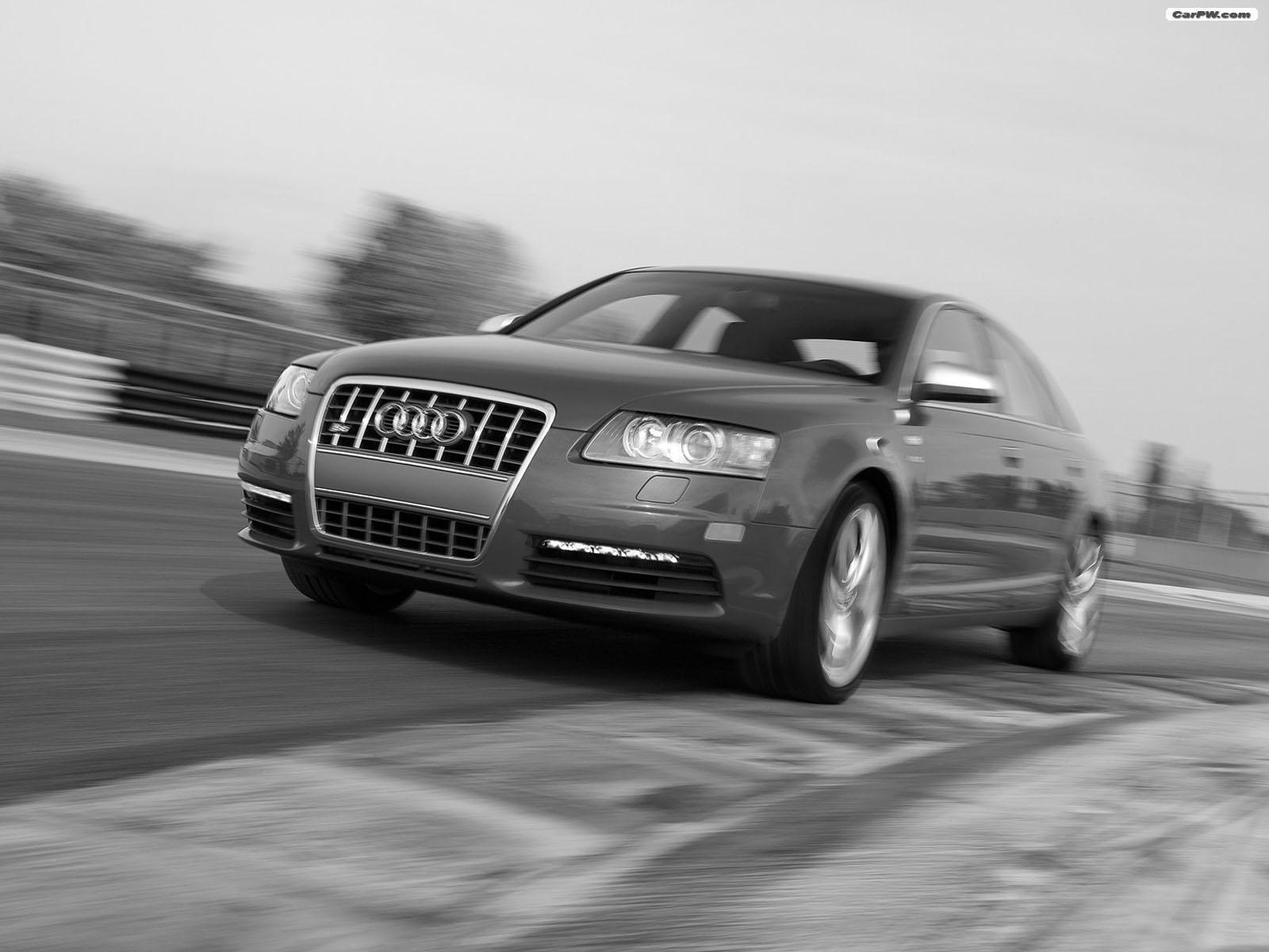car: (236, 263, 1119, 701)
